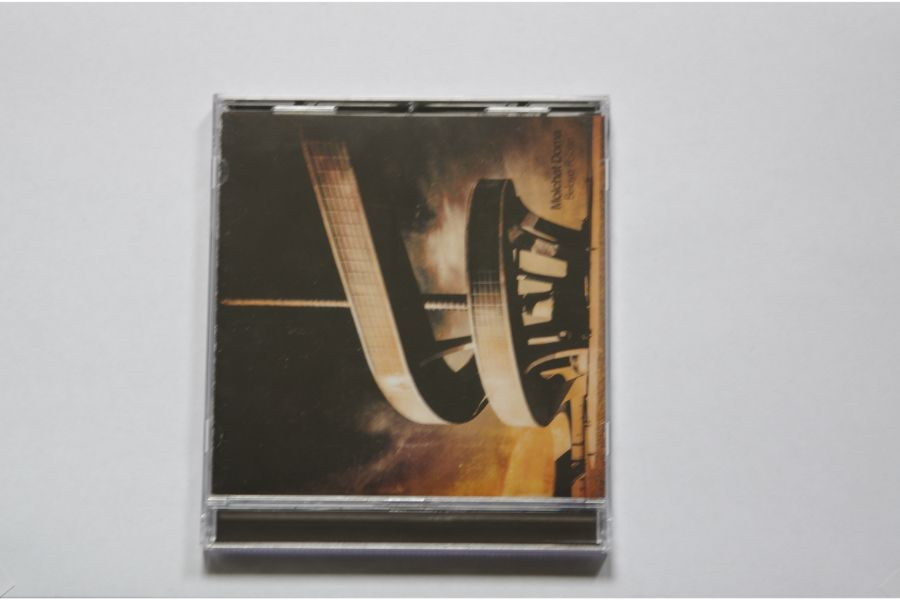album: (204, 91, 612, 560)
